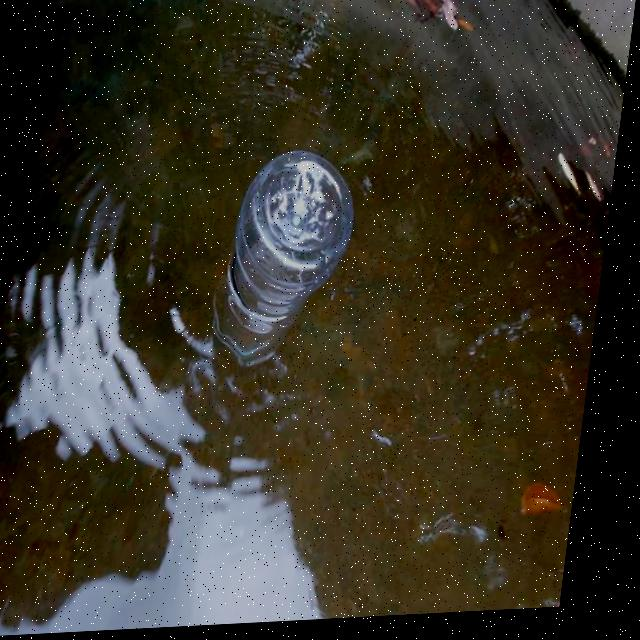leaf: (384, 0, 493, 49), (523, 473, 590, 532)
waterbottle: (188, 145, 374, 378)
